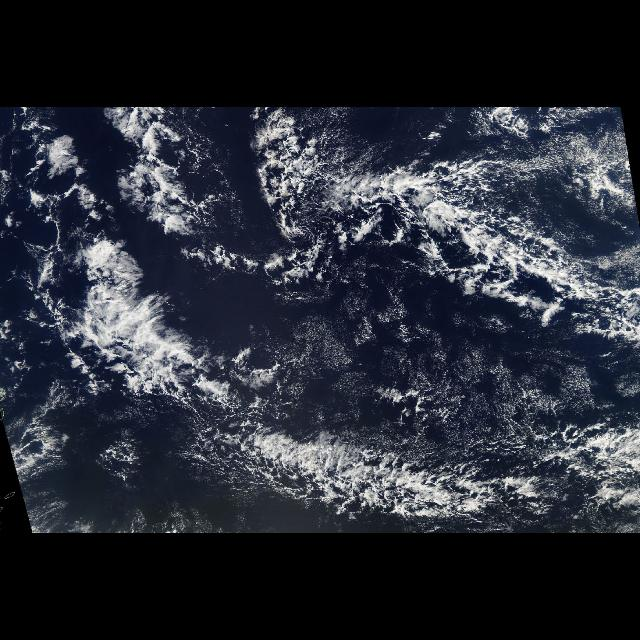Fish: (5, 108, 640, 526)
Sugar: (234, 280, 628, 432)
